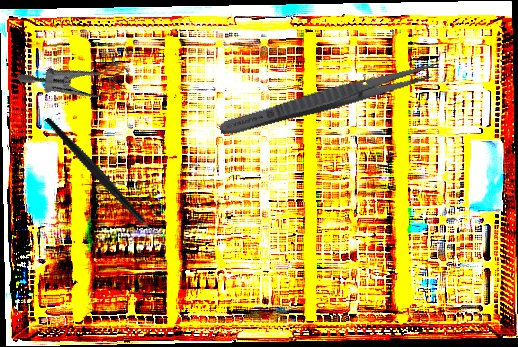Chopper: (43, 92, 170, 263)
Dressing Forceps: (217, 56, 439, 142)
Speculum: (15, 13, 145, 132)
